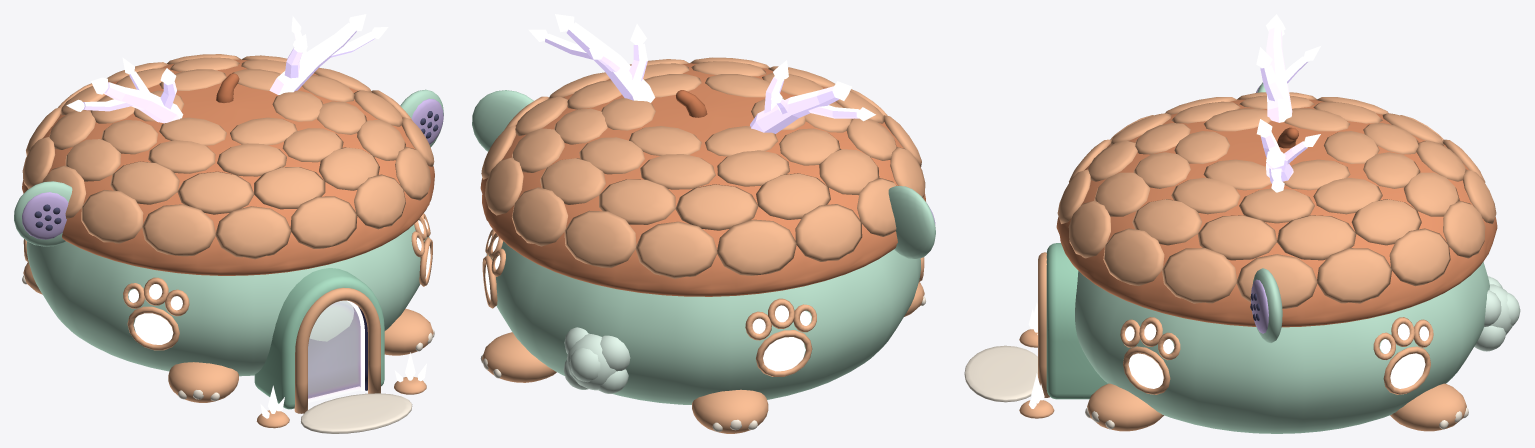
Rendered from house_04_0405.fbx.
3 renders of one model, left to right at view 1: azimuth 30°, elevation 25°; view 2: azimuth 150°, elevation 25°; view 3: azimuth 270°, elevation 25°, orthographic. The views are drawn at different scales.
Visible parts, largest first — view 1: House_AcornCap_Scales, House_Body, House_AcornCap, House_Entrance, House_CrystalAntlers, House_GlowMembrane, House_Paws, House_EntranceStep, House_DoorRim, House_PawWindows_Rim, House_EarVent_Inner, House_EarVent_Shell (+7 smaller); view 2: House_AcornCap_Scales, House_Body, House_AcornCap, House_CrystalAntlers, House_Paws, House_EarVent_Shell, House_Tail, House_PawWindows_Rim, House_PawWindows_Glow, House_AntlerGlowTips, House_CapStem; view 3: House_AcornCap_Scales, House_Body, House_AcornCap, House_Entrance, House_Paws, House_PawWindows_Rim, House_EntranceStep, House_CrystalAntlers, House_PawWindows_Glow, House_Tail, House_AntlerGlowTips, House_DoorRim (+3 smaller).
Part boxes in pixels (x1,y1,x2,y2): House_AcornCap_Scales: [22, 54, 434, 259]; House_Body: [26, 224, 429, 376]; House_AcornCap: [22, 59, 434, 275]; House_Entrance: [254, 268, 384, 409]; House_CrystalAntlers: [83, 22, 375, 123]; House_GlowMembrane: [308, 300, 360, 402]; House_Paws: [23, 262, 433, 402]; House_EntranceStep: [301, 393, 412, 433]; House_DoorRim: [294, 287, 380, 413]; House_PawWindows_Rim: [23, 213, 432, 350]; House_EarVent_Inner: [22, 98, 443, 239]; House_EarVent_Shell: [14, 89, 443, 246]; House_AcornCap_Scales: [481, 57, 925, 278]; House_Body: [486, 241, 920, 404]; House_AcornCap: [480, 63, 925, 296]; House_CrystalAntlers: [545, 22, 859, 133]; House_Paws: [482, 282, 924, 433]; House_EarVent_Shell: [472, 90, 935, 259]; House_Tail: [563, 327, 630, 393]; House_PawWindows_Rim: [482, 229, 924, 376]; House_PawWindows_Glow: [485, 235, 811, 371]; House_AntlerGlowTips: [528, 14, 875, 121]; House_CapStem: [676, 90, 707, 117]; House_AcornCap_Scales: [1057, 92, 1496, 308]; House_Body: [1075, 262, 1489, 433]; House_AcornCap: [1056, 99, 1497, 327]; House_Entrance: [1046, 243, 1107, 399]; House_Paws: [1087, 383, 1466, 431]; House_PawWindows_Rim: [1120, 317, 1433, 394]; House_EntranceStep: [964, 345, 1037, 402]; House_CrystalAntlers: [1260, 28, 1307, 183]; House_PawWindows_Glow: [1125, 323, 1428, 388]; House_Tail: [1474, 276, 1520, 351]; House_AntlerGlowTips: [1256, 14, 1320, 192]; House_DoorRim: [1038, 252, 1049, 397].
Size of the model in its own units: 6.38 by 3.94 by 6.76.
